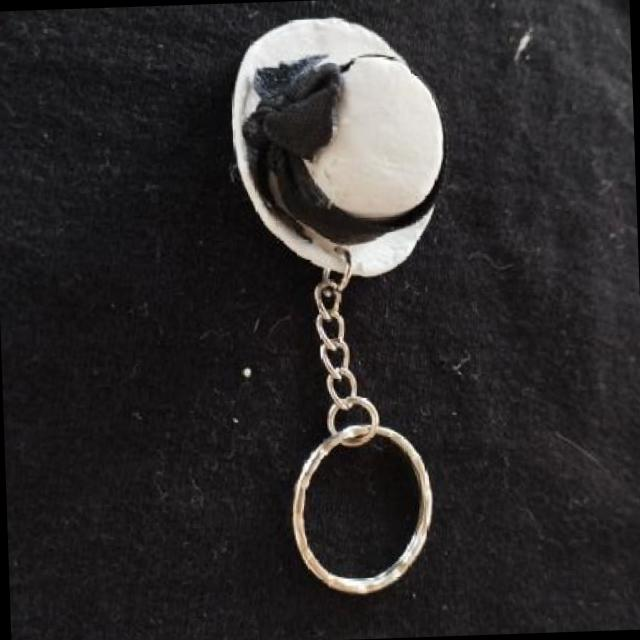Llavero: (227, 12, 450, 282)
